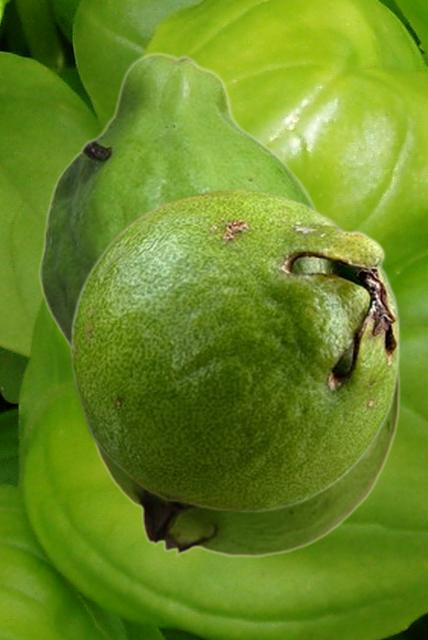guava: (69, 188, 400, 513), (37, 51, 320, 349), (87, 372, 400, 556)
